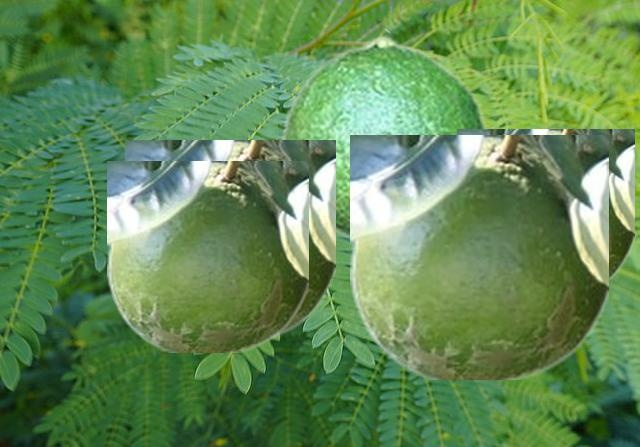dalandan: (350, 135, 607, 378), (279, 34, 488, 243), (125, 140, 334, 339), (107, 161, 307, 351), (457, 129, 633, 282)
